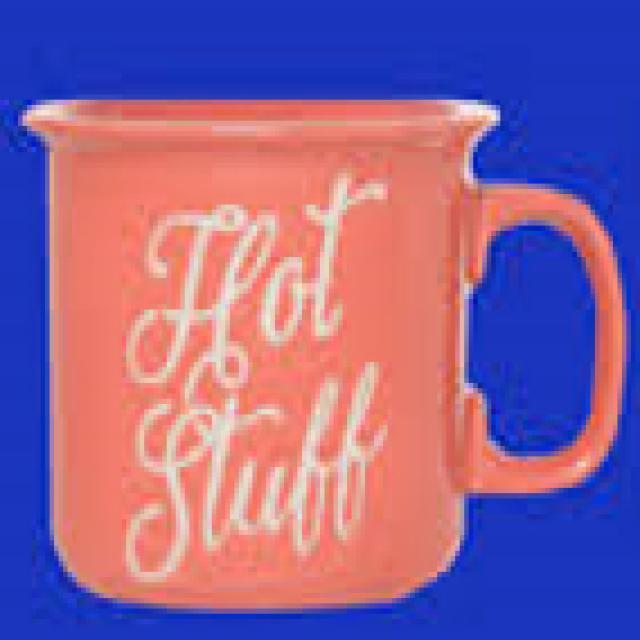taza: (16, 97, 626, 614)
